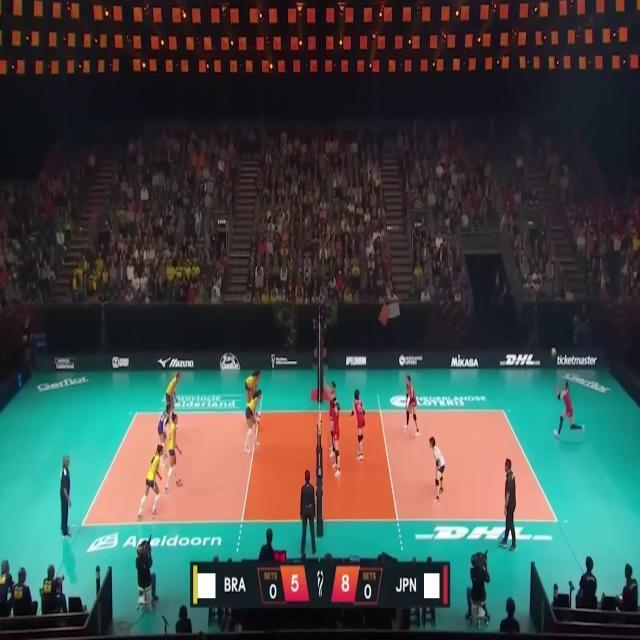volleyball: (550, 348, 556, 356)
